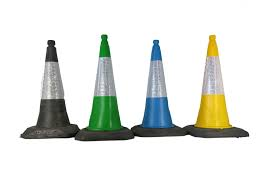cones: (185, 34, 249, 139), (76, 36, 132, 142), (21, 40, 74, 140), (135, 41, 184, 137)
